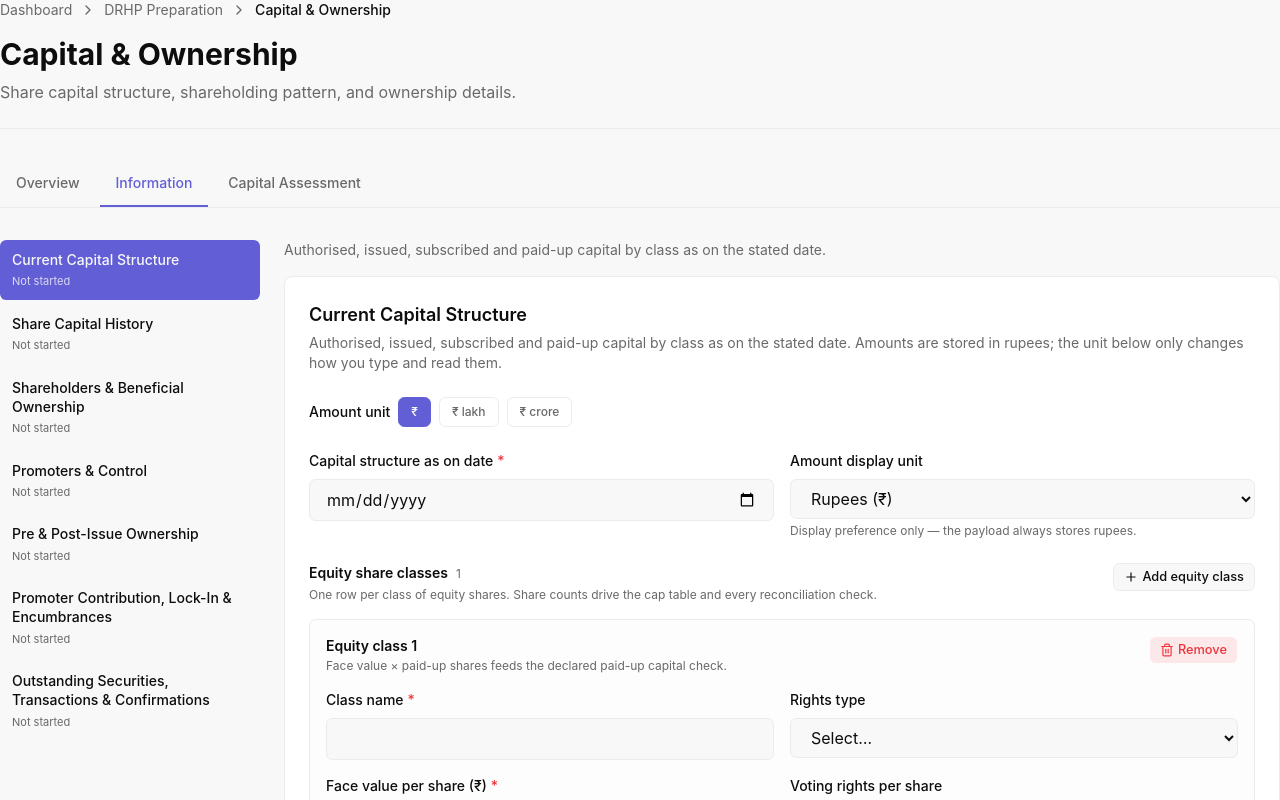
Test case: Capital & Ownership workstream UI (C2 persistence) › saves the active section and discards drafts
In the date field labelled "Capital structure as on date*": [542, 500] box [309,479,774,521], type "2025-03-31"
(page scrolled)
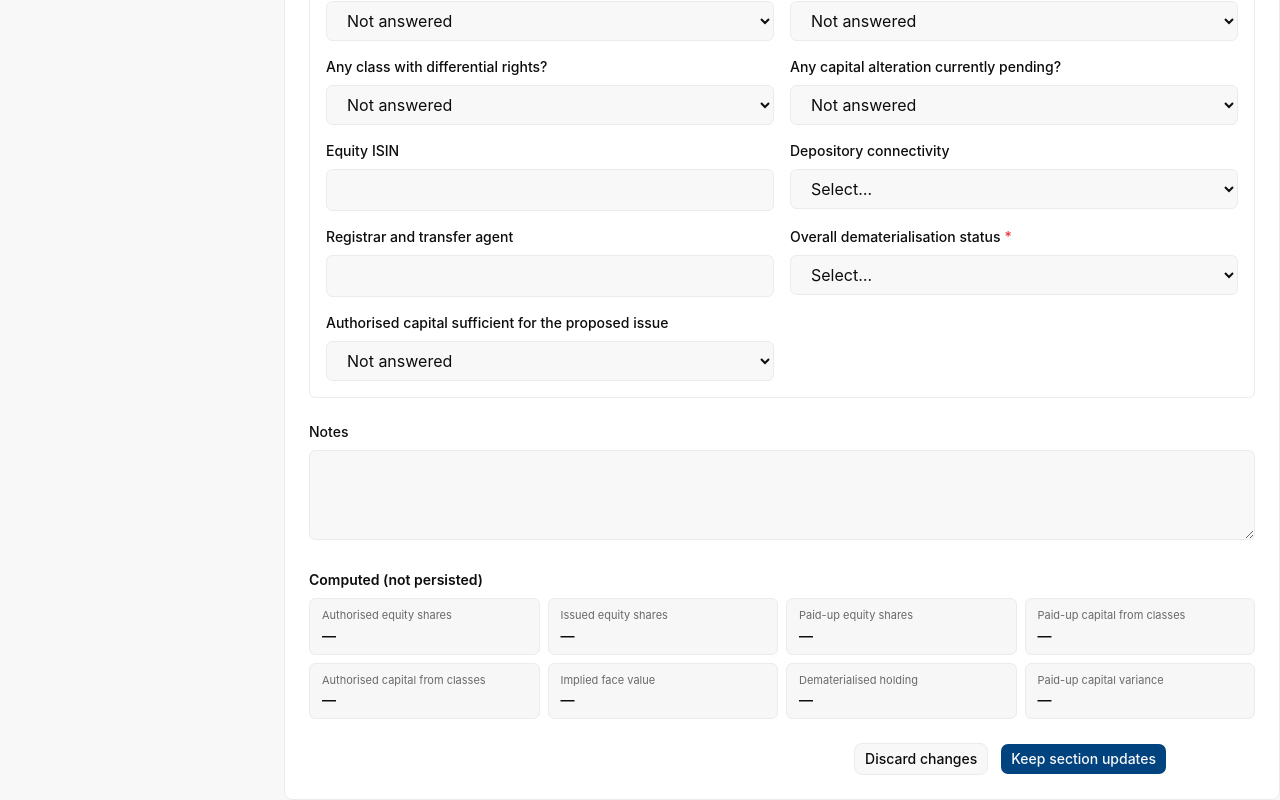
Click the button "Keep section updates": [1084, 759] box [1000,743,1167,775]
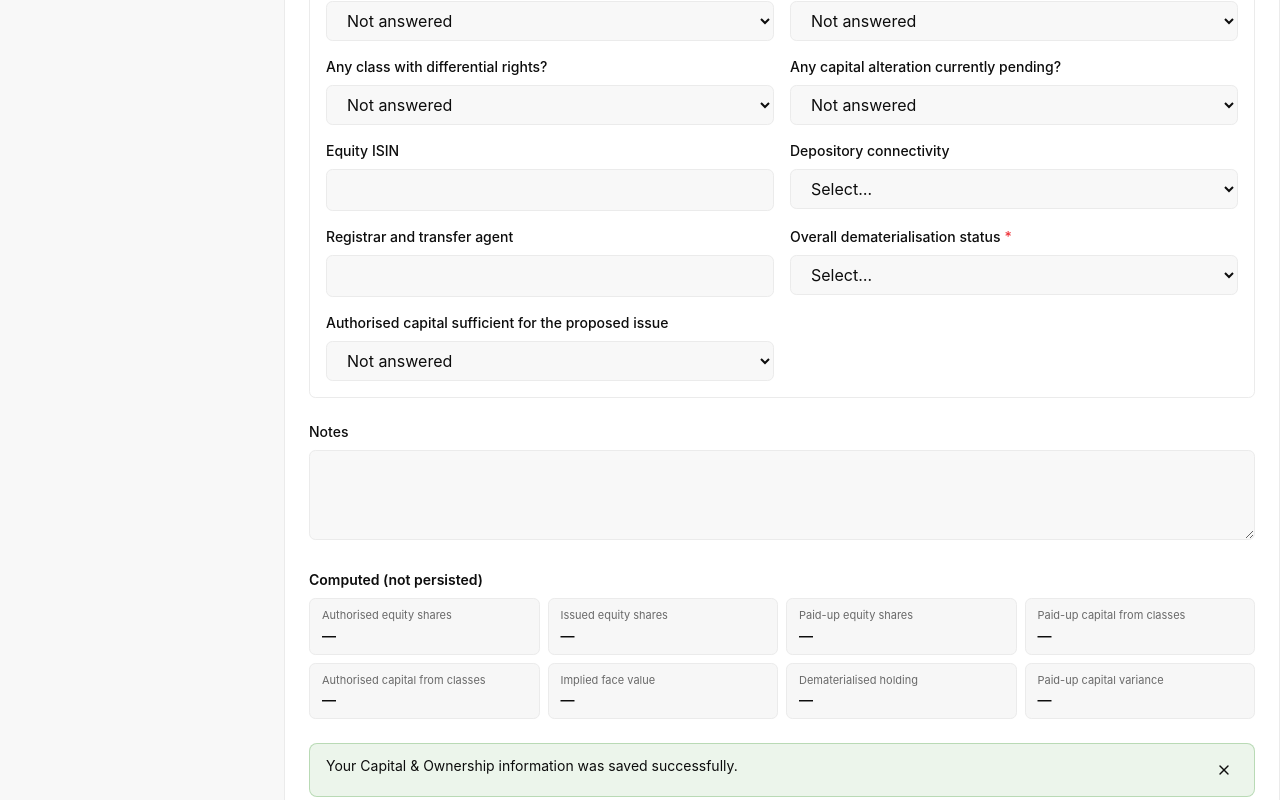
Expected: the text "Your Capital & Ownership information was saved successfully." is shown, [326,756,738,776]
In the text box with id "cap-structure-notes": [782, 495] box [309,450,1255,540], type "draft note"
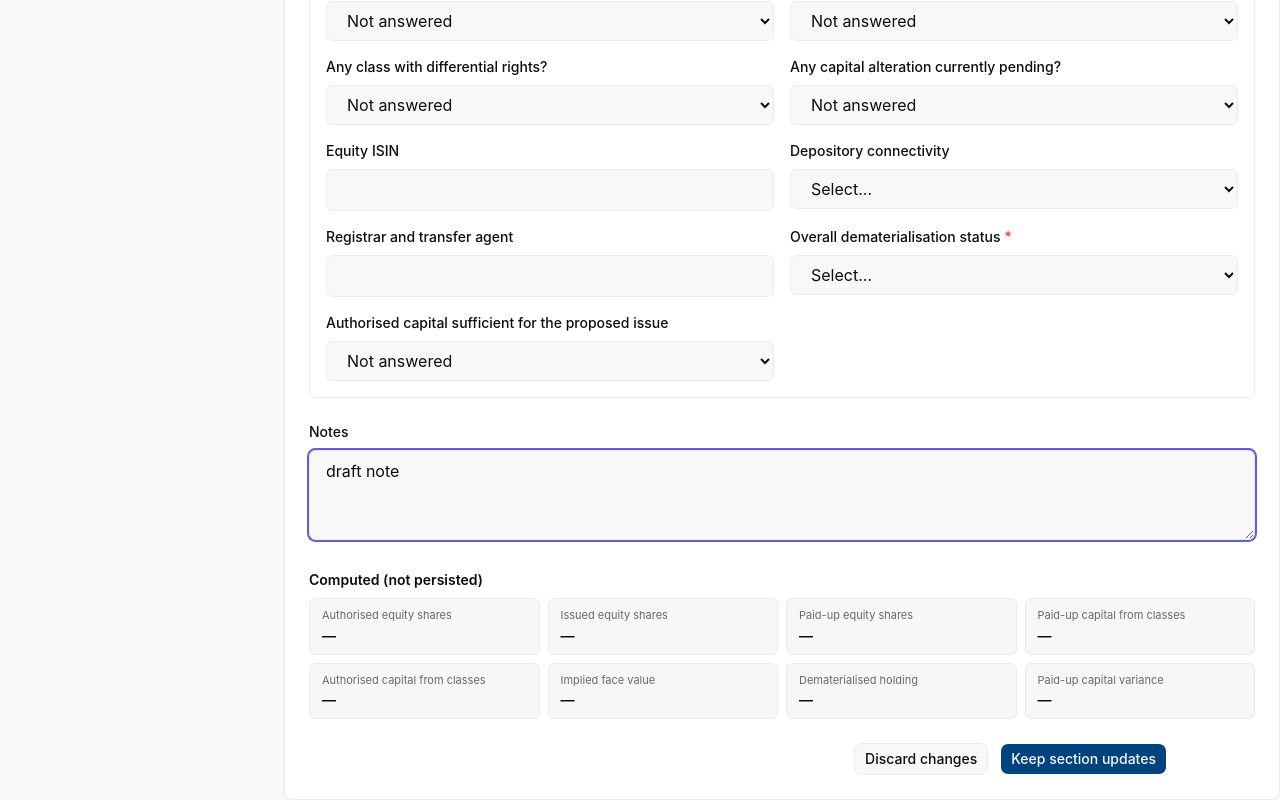
Click the button "Discard changes": [921, 759] box [854,743,988,775]
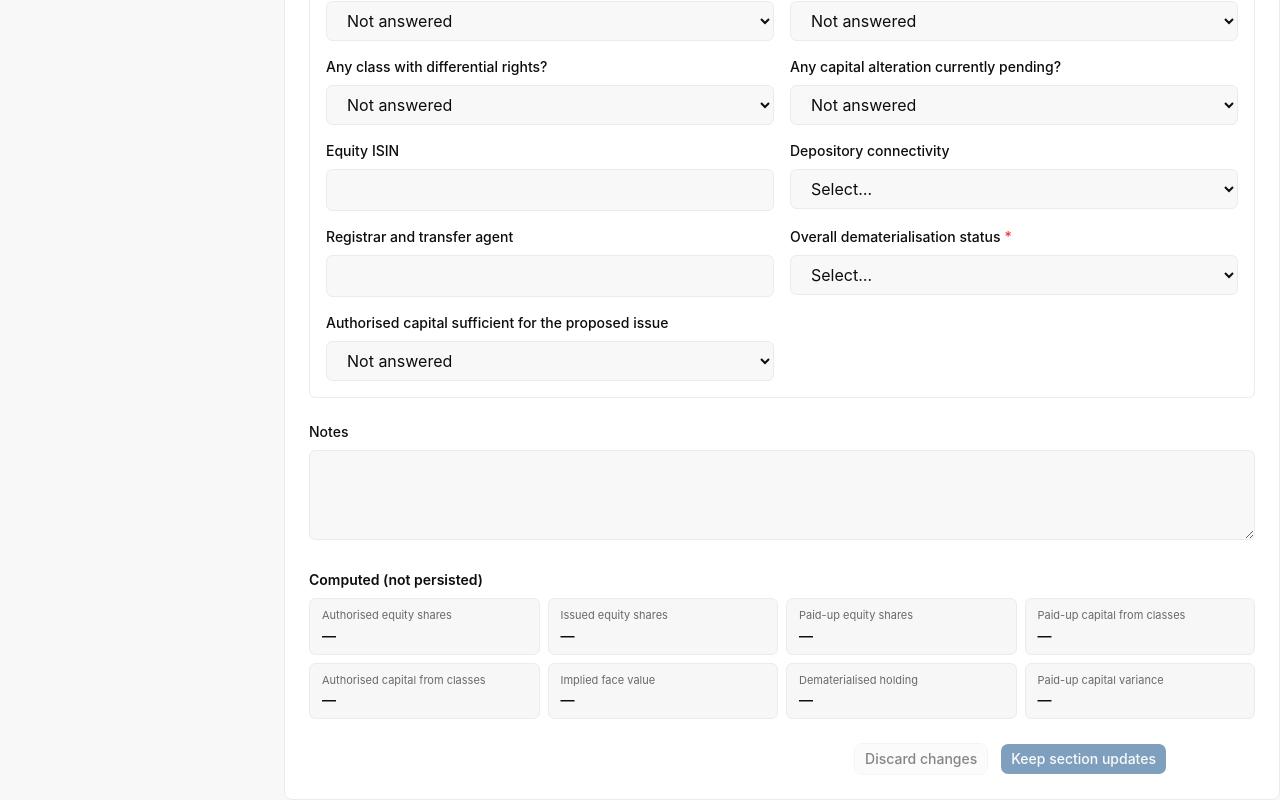
Expected: the text box with id "cap-structure-notes" is empty, [309,450,1255,540]
